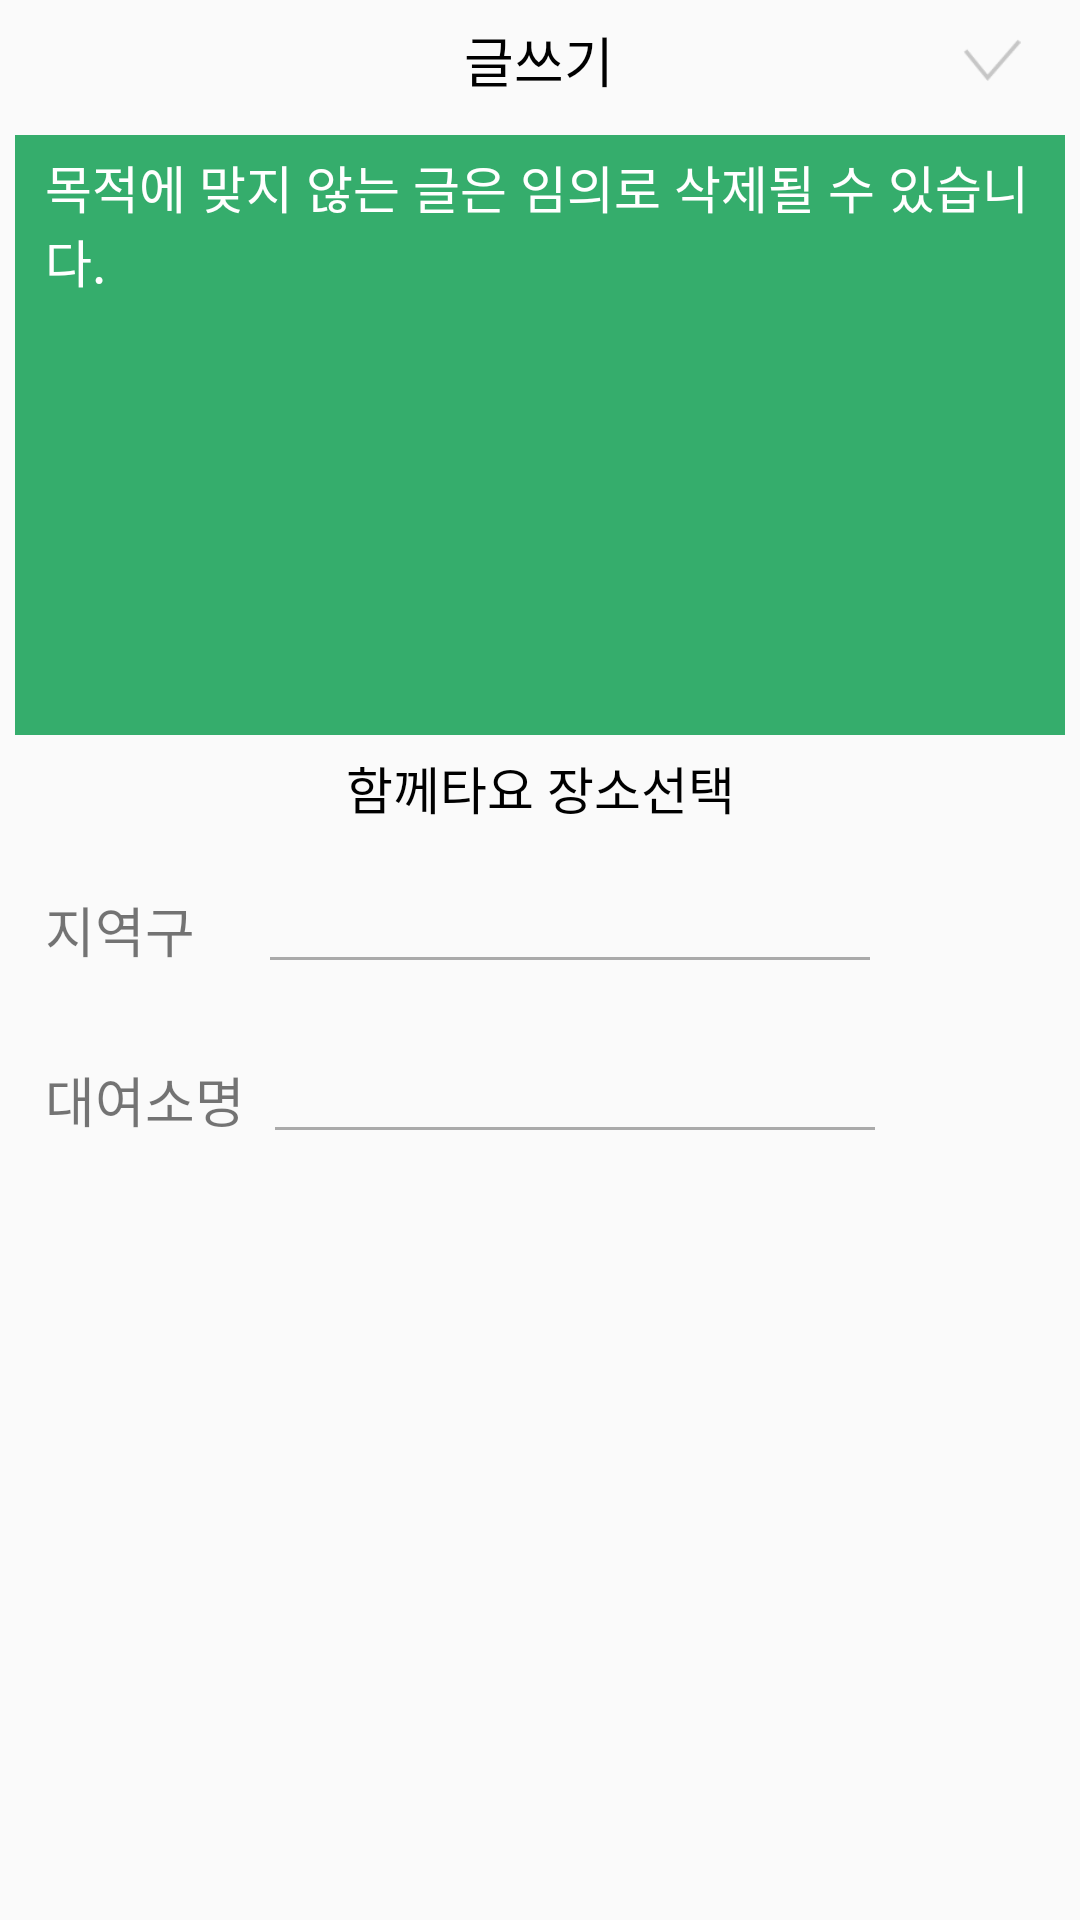

Point at icon controls on the screen. Image size 1080px x 1920px, points as (x=x, y=y).
mark: (x=993, y=60)
